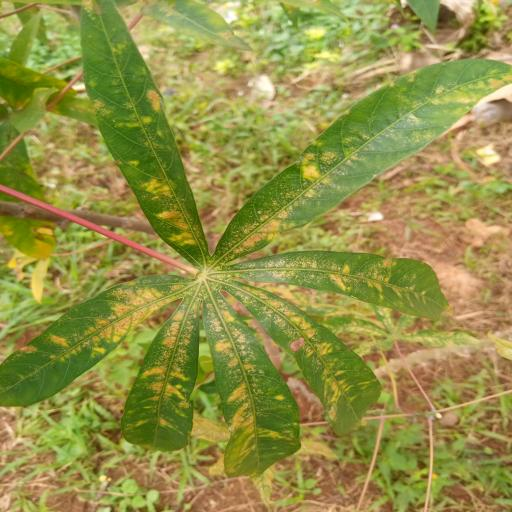Cassava_Mosaic: (5, 0, 512, 480)
